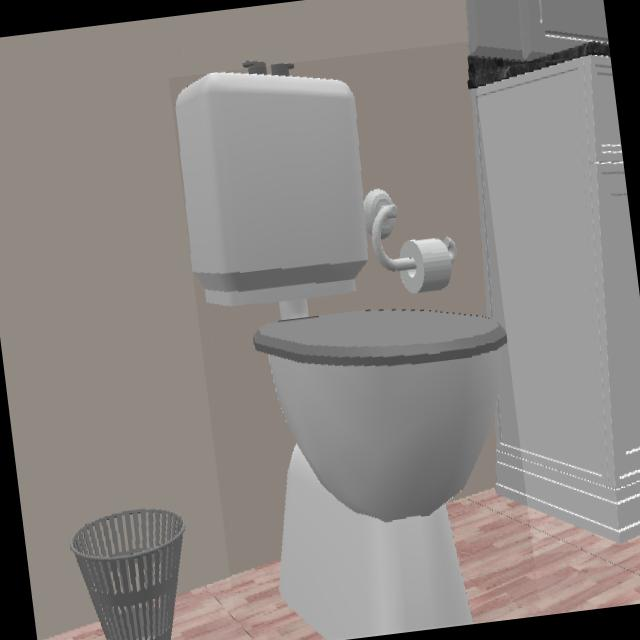cabinet: (470, 57, 640, 545)
toilet: (176, 73, 507, 640)
